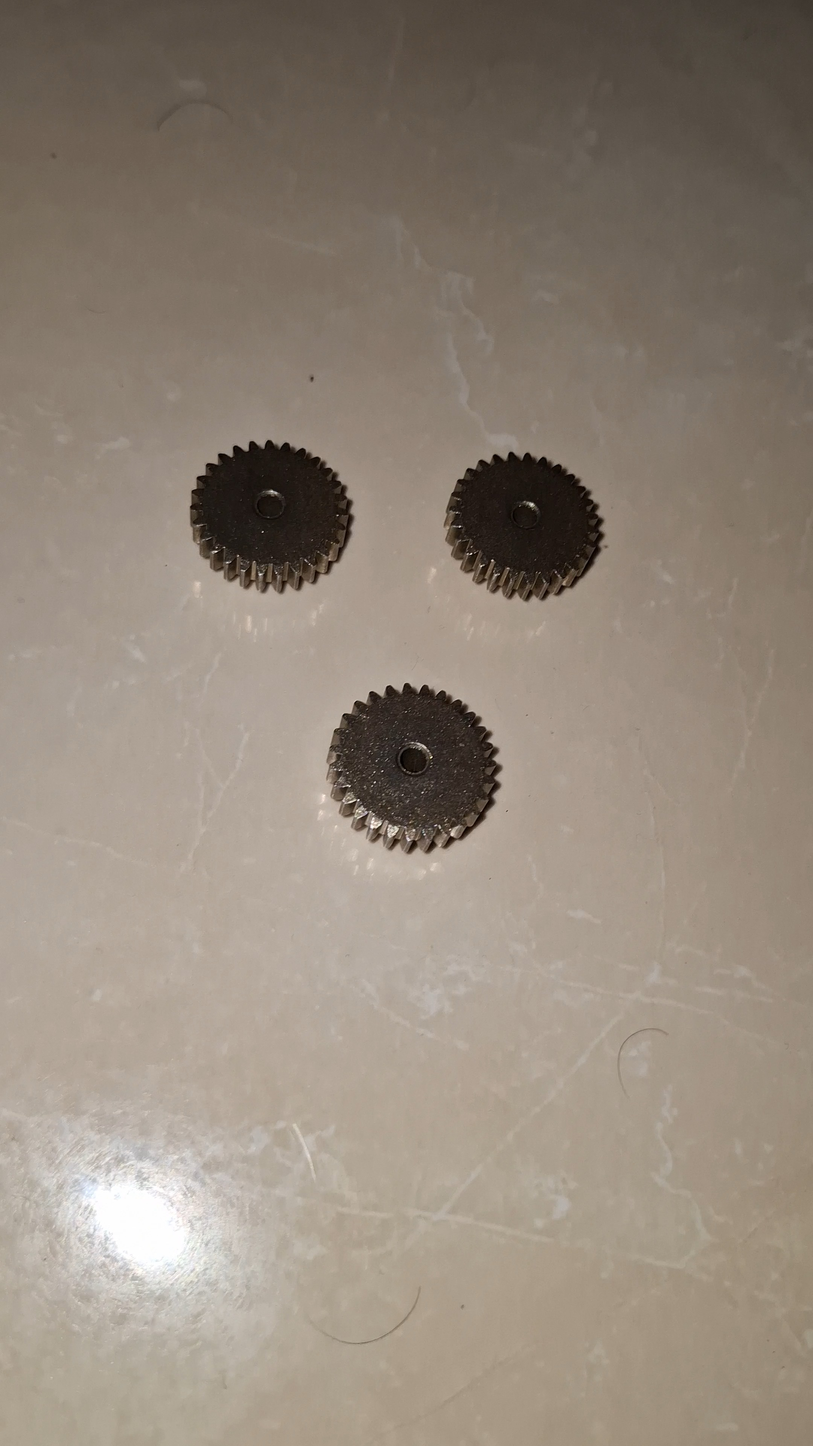spur gear: (327, 684, 495, 851), (190, 441, 348, 591), (447, 452, 599, 598)
